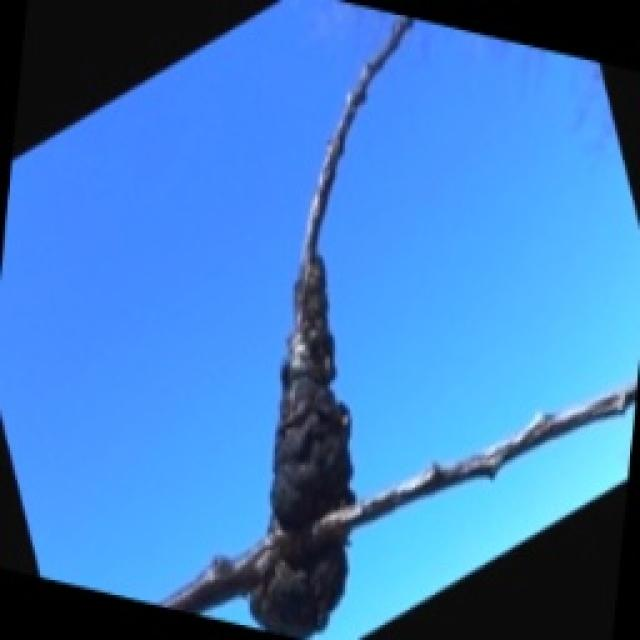Black_knot: (265, 252, 355, 532)
